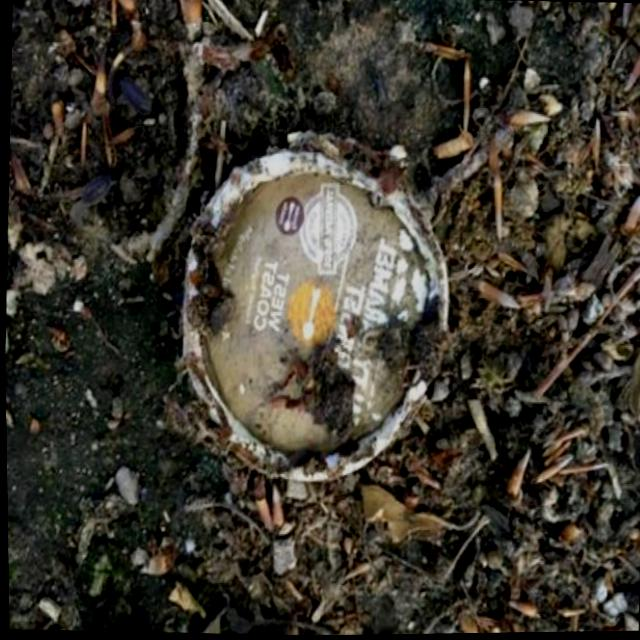Paper: (166, 121, 457, 492)
